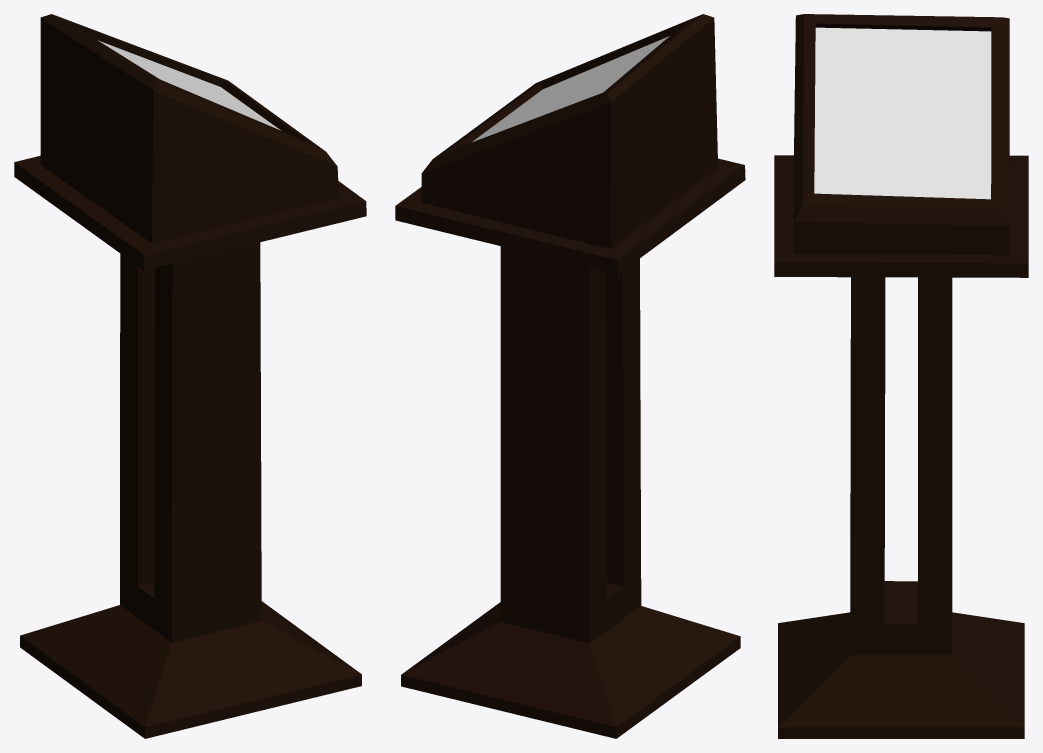
File: Controle.fbx
The picture shows the model from 3 angles, left to right: view 1: azimuth 30°, elevation 25°; view 2: azimuth 150°, elevation 25°; view 3: azimuth 270°, elevation 25°; orthographic projection.
Visible parts, largest first — view 1: Controle; view 2: Controle; view 3: Controle.
Part boxes in pixels (box(x1,y1,x2,y2)): Controle: box(14, 14, 366, 738); Controle: box(395, 14, 745, 738); Controle: box(774, 14, 1028, 738).
Bounding box in the file's own units: 49.91 × 137 × 49.83.
